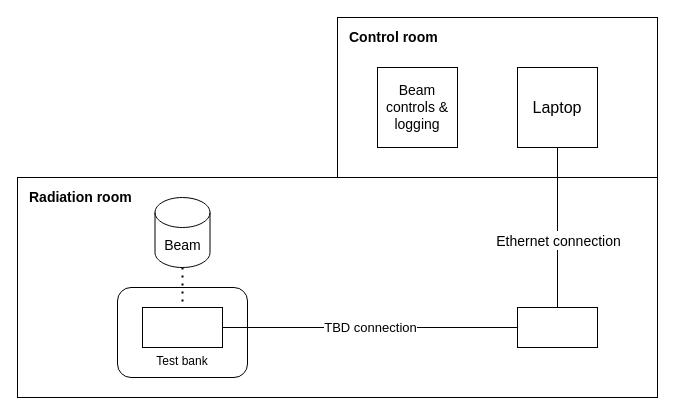
Some shapes in this 675 by 415 pixel diagram are drawn without their labels. Each missing label, with the centre of its shape:
"DUT" belongs at (182,327).
"Supporting hardware" belongs at (557,327).
